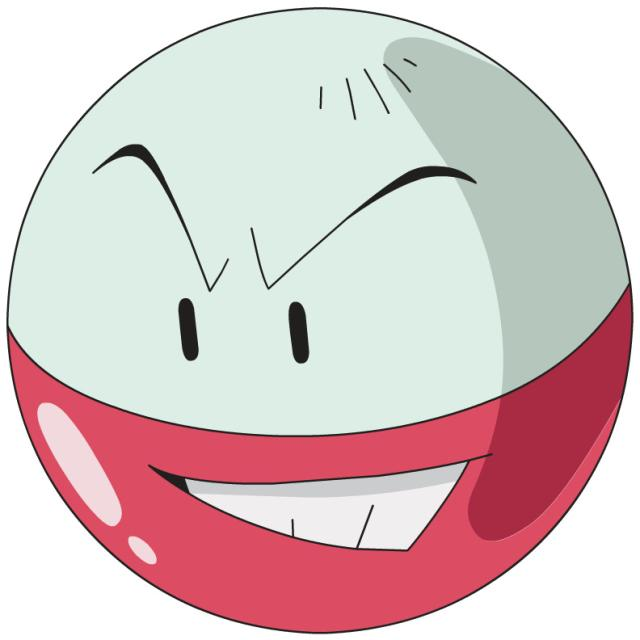Electrode: (0, 1, 637, 631)
